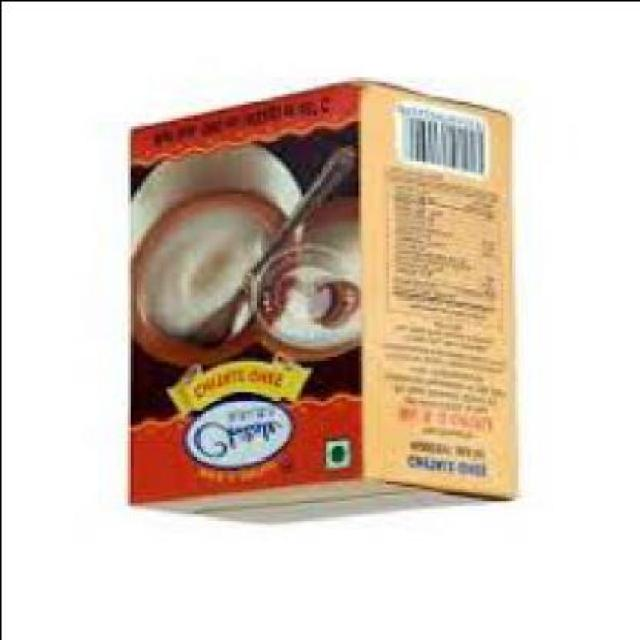CARDBOARD: (126, 81, 508, 524)
